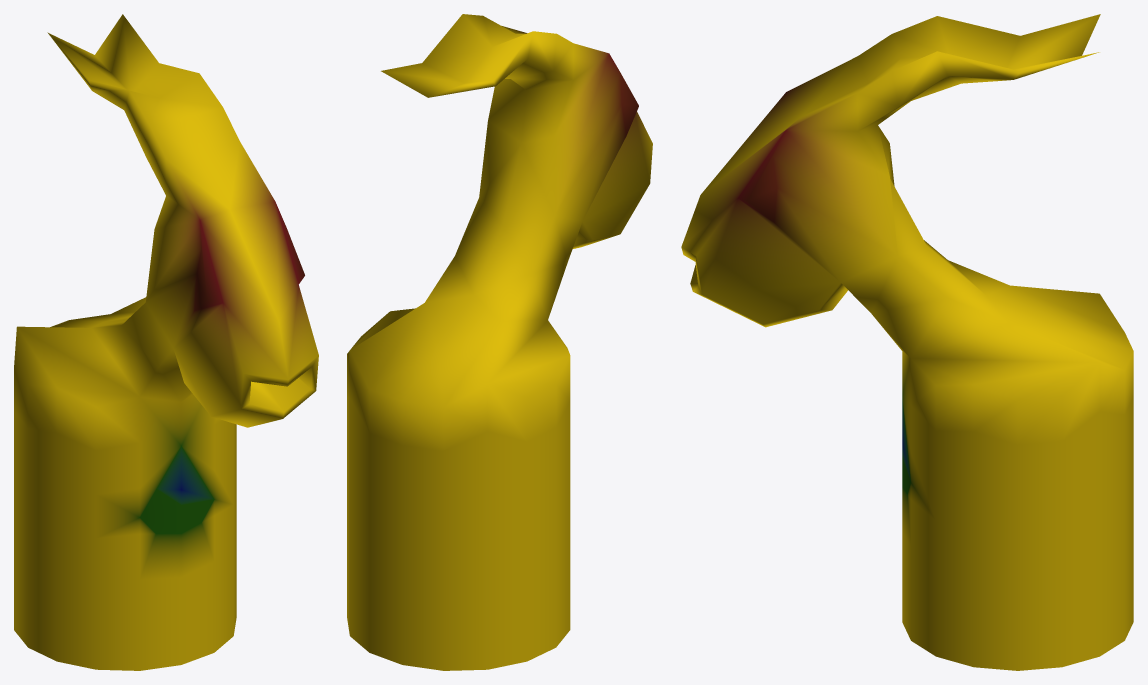
The model's file is BasicPractice.glb.
The picture shows the model from 3 angles, left to right: view 1: azimuth 30°, elevation 25°; view 2: azimuth 150°, elevation 25°; view 3: azimuth 270°, elevation 25°; orthographic projection. The views are drawn at different scales.
Parts seen in each view (by area): view 1: BasicPractice; view 2: BasicPractice; view 3: BasicPractice.
Boxes of the visible parts, x1=… form: BasicPractice: x1=14, y1=14, x2=318, y2=670; BasicPractice: x1=347, y1=14, x2=652, y2=670; BasicPractice: x1=681, y1=14, x2=1133, y2=670.
Size of the model in its own units: 0.7133 by 2 by 1.39.
